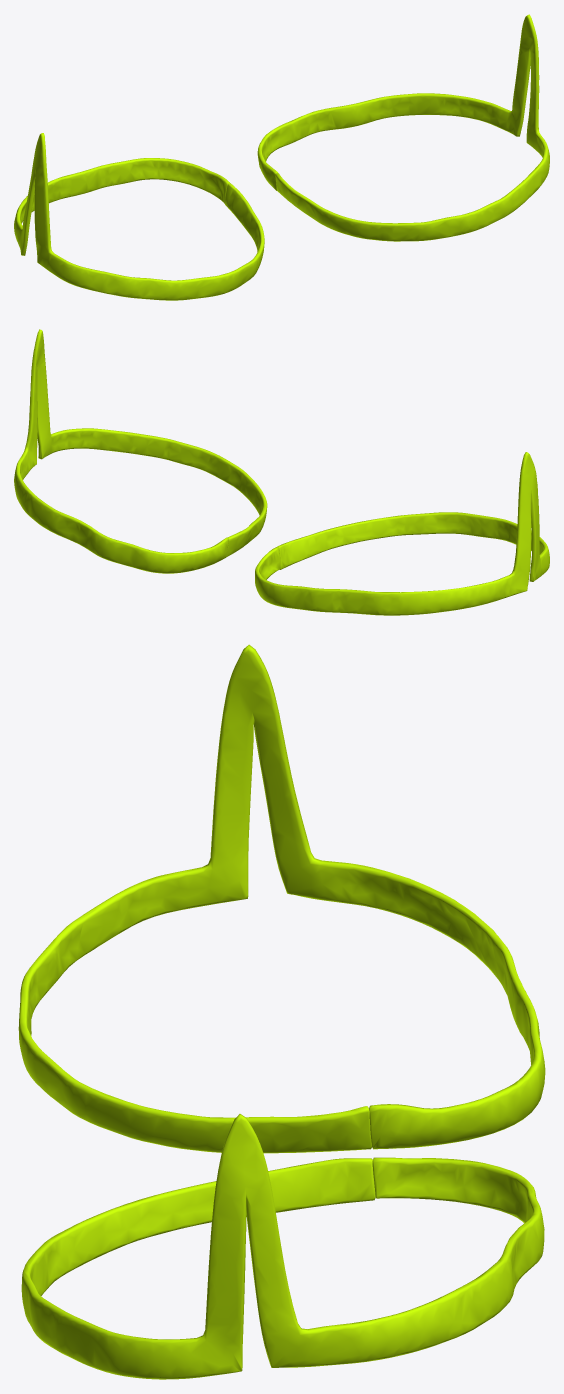
File: stitching-bottom_side-slit.glb
3 views of the same model, one above another, from view 1: azimuth 30°, elevation 25°; view 2: azimuth 150°, elevation 25°; view 3: azimuth 270°, elevation 25° (orthographic). The views are drawn at different scales.
Parts seen in each view (by area): view 1: stitching-bottom_side-slit.001; view 2: stitching-bottom_side-slit.001; view 3: stitching-bottom_side-slit.001.
Boxes of the visible parts, <box> form: stitching-bottom_side-slit.001: <box>14,14,549,300</box>; stitching-bottom_side-slit.001: <box>14,329,549,615</box>; stitching-bottom_side-slit.001: <box>18,644,545,1379</box>.
Size of the model in its own units: 2.15 by 0.6442 by 0.9775.
